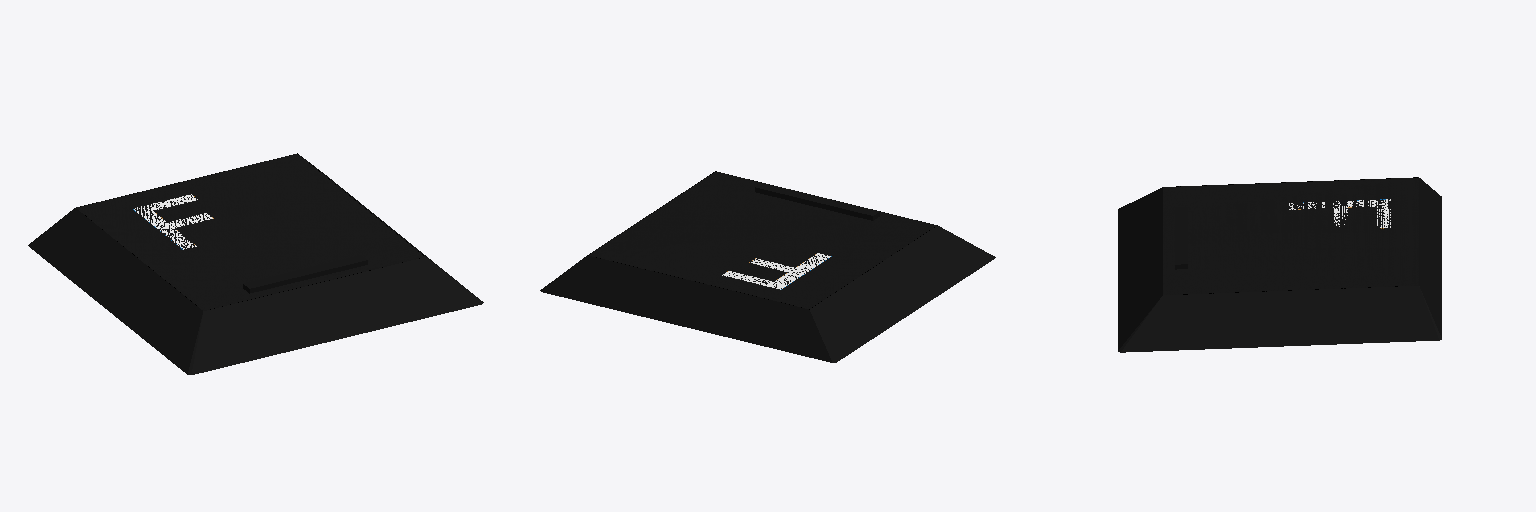
3 renders of one model, left to right at view 1: azimuth 30°, elevation 25°; view 2: azimuth 150°, elevation 25°; view 3: azimuth 270°, elevation 25°, orthographic.
Visible parts, largest first — view 1: Group13/mesh11/mesh11-geometry#mesh11-geometry; view 2: Group13/mesh11/mesh11-geometry#mesh11-geometry; view 3: Group13/mesh11/mesh11-geometry#mesh11-geometry.
Boxes of the visible parts, x1=… form: Group13/mesh11/mesh11-geometry#mesh11-geometry: x1=28, y1=153, x2=483, y2=374; Group13/mesh11/mesh11-geometry#mesh11-geometry: x1=540, y1=171, x2=995, y2=362; Group13/mesh11/mesh11-geometry#mesh11-geometry: x1=1118, y1=177, x2=1441, y2=352.
Size of the model in its own units: 0.0754 by 0.0119 by 0.0715.
2 materials, 1 textured.